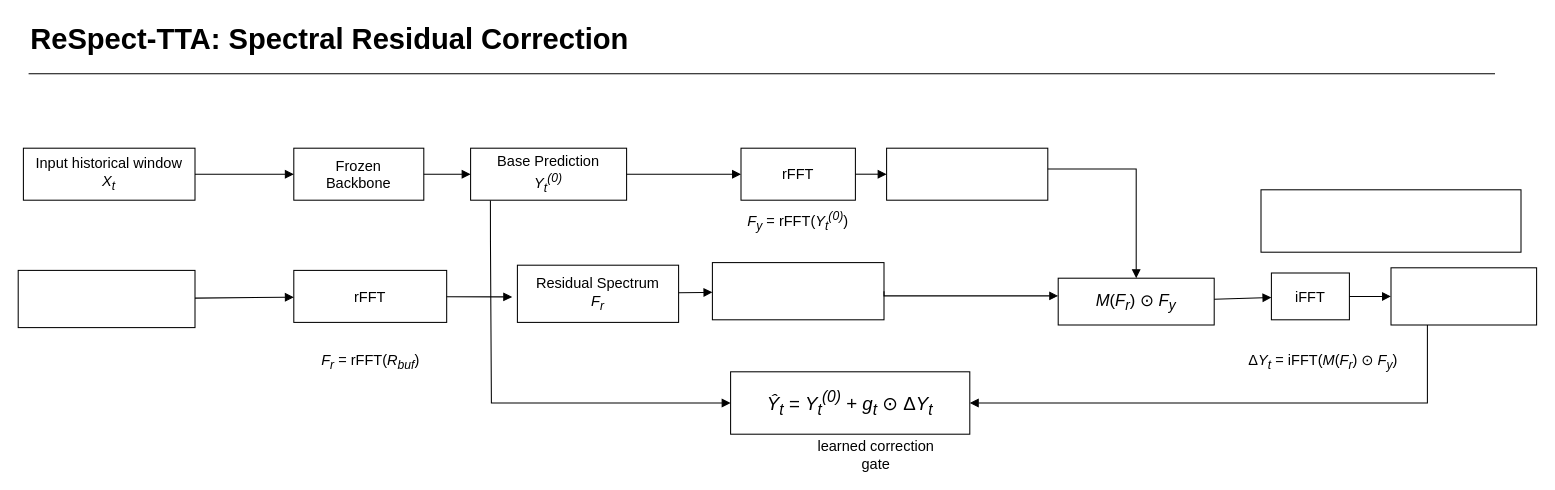
The diagram is 1555 pixels wide and 490 high, and some of its shapes have lost their labels. Here are the shapes that lost their labels. From the top down, the centre of each, then its label:
At pixel 967 173: "Prediction Spectrum F y".
At pixel 1390 220: "Residual spectrum directly corrects the prediction spectrum.".
At pixel 106 298: "Recent residual memory R buf".
At pixel 797 291: "Complex Modulator M ( F r )".
At pixel 1463 296: "Spectral Correction Δ Y t".
